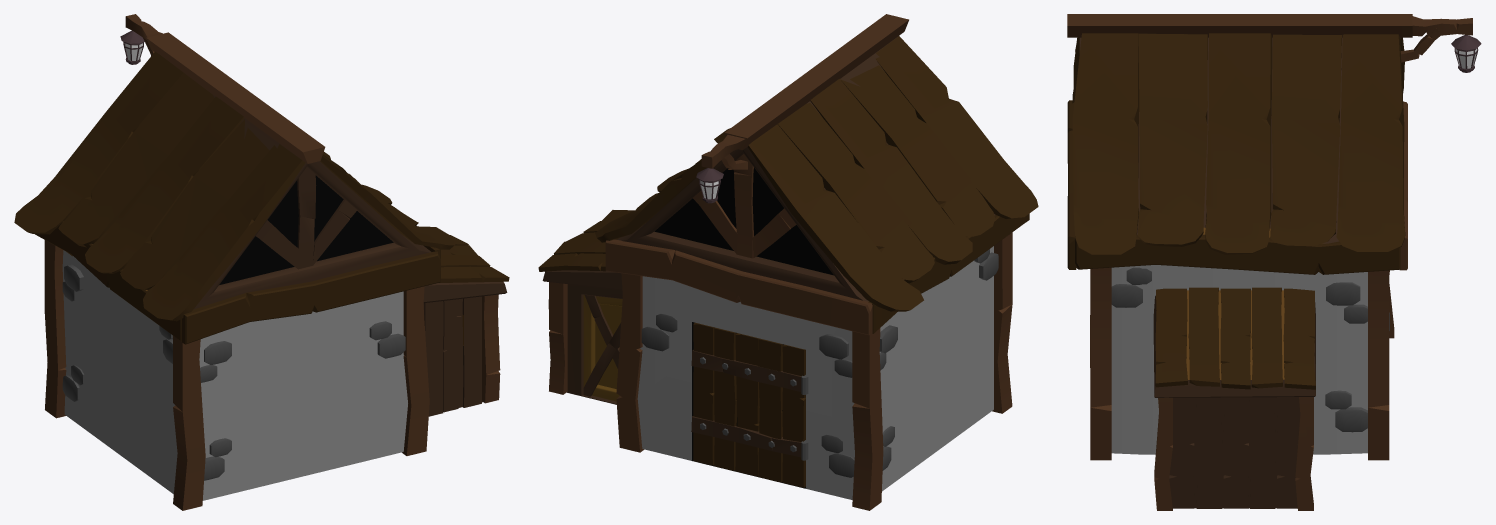
The model's file is Barn.fbx.
3 views of the same model, side by side, from view 1: azimuth 30°, elevation 25°; view 2: azimuth 150°, elevation 25°; view 3: azimuth 270°, elevation 25° (orthographic). The views are drawn at different scales.
Parts seen in each view (by area): view 1: Cube.002; view 2: Cube.002; view 3: Cube.002.
Part boxes in pixels (x1,y1,x2,y2): Cube.002: [14, 14, 509, 510]; Cube.002: [538, 14, 1038, 510]; Cube.002: [1067, 14, 1481, 510].
Size of the model in its own units: 1891 by 1553 by 1559.
